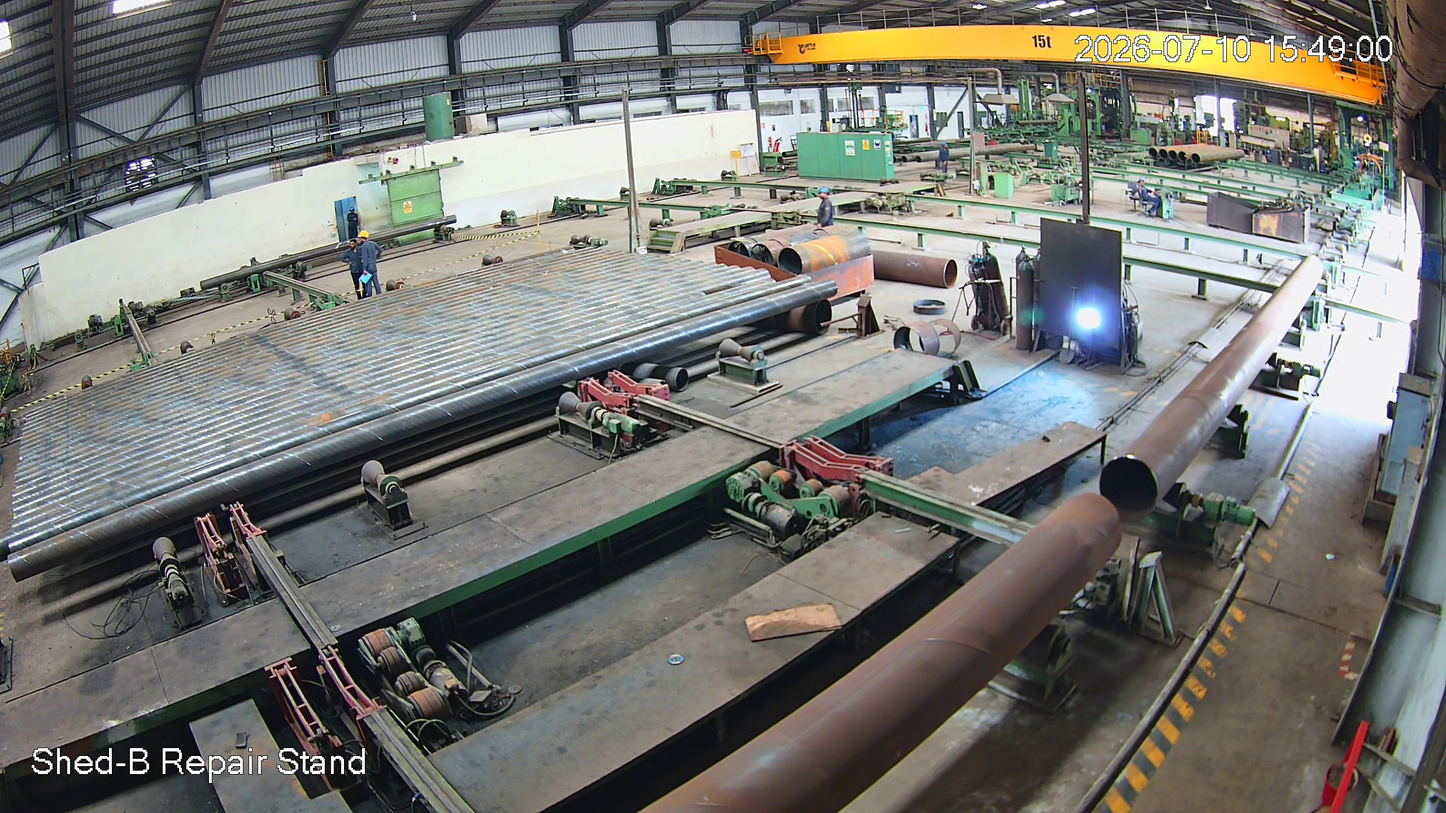Helmet: (357, 227, 380, 249)
Person: (357, 231, 384, 296), (338, 237, 367, 295)
